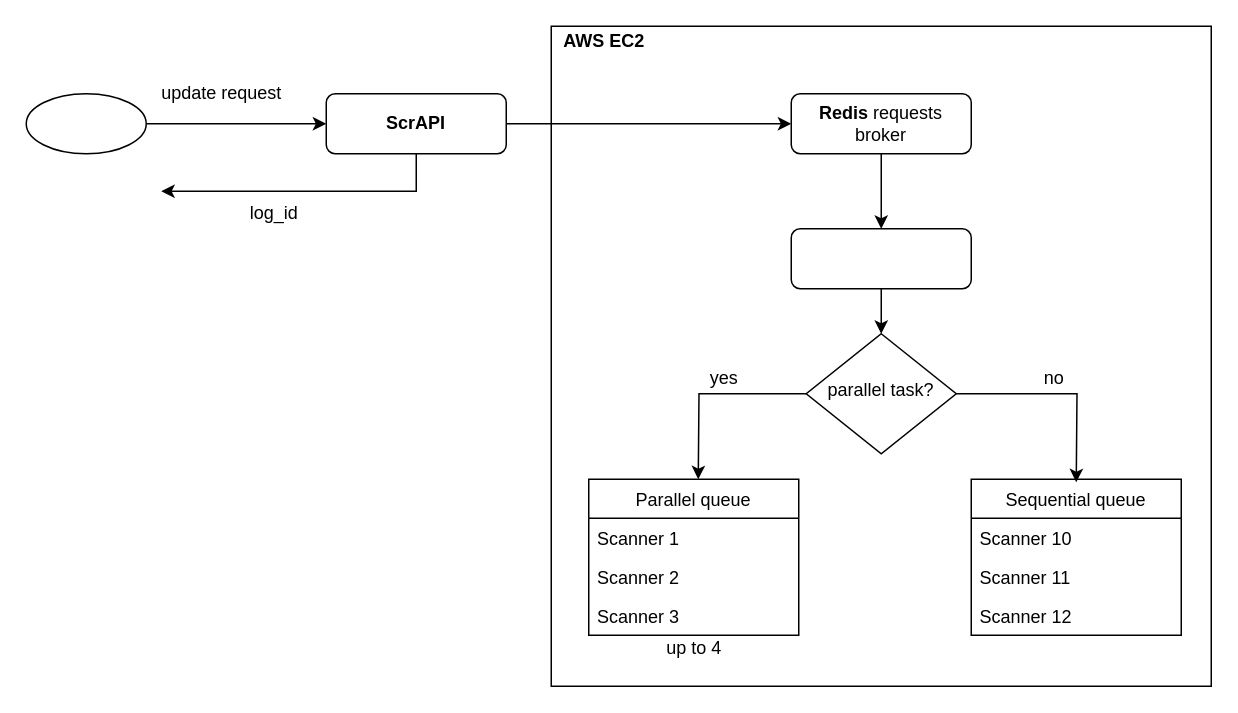
This 1238x713 diagram has some shape labels left out. Here are the shapes that lost their labels. From the top down, the centre of each, then its label:
At (85,123): "User".
At (880,258): "Dramatiq task controller".
